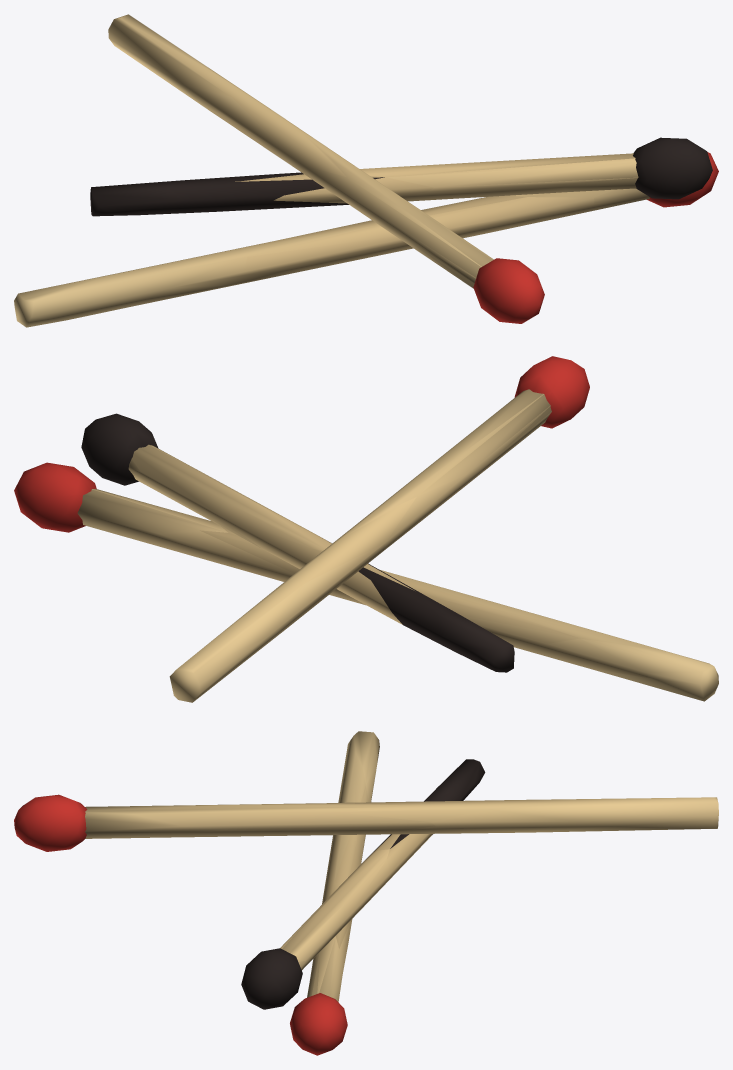
Rendered from ember_gc_matchsticks_lod1.glb.
3 views of the same model, one above another, from view 1: azimuth 30°, elevation 25°; view 2: azimuth 150°, elevation 25°; view 3: azimuth 270°, elevation 25° (orthographic). The views are drawn at different scales.
Visible parts, largest first — view 1: ember_gc_matchsticks.001; view 2: ember_gc_matchsticks.001; view 3: ember_gc_matchsticks.001.
Part boxes in pixels (x1,y1,x2,y2): ember_gc_matchsticks.001: [14, 14, 718, 327]; ember_gc_matchsticks.001: [14, 356, 718, 702]; ember_gc_matchsticks.001: [14, 731, 718, 1055].
Bounding box in the file's own units: 14.53 × 2.6 × 14.54.
